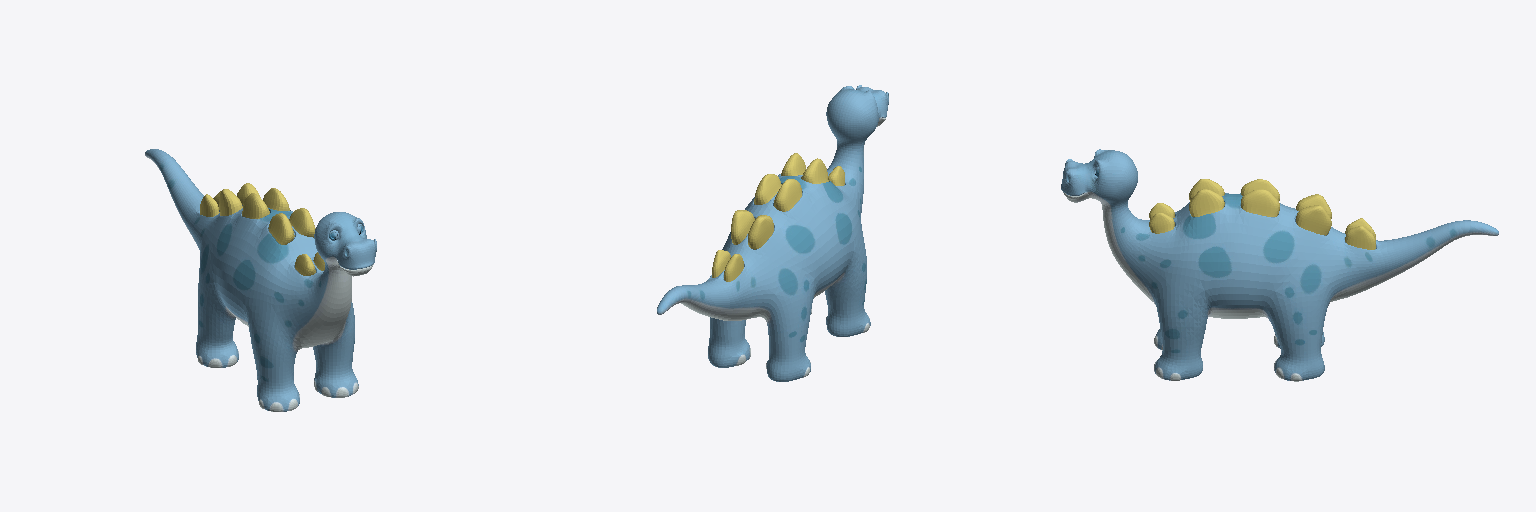
The picture shows the model from 3 angles: view 1: azimuth 30°, elevation 25°; view 2: azimuth 150°, elevation 25°; view 3: azimuth 270°, elevation 25°; orthographic projection.
Parts seen in each view (by area): view 1: Dinosaur.002; view 2: Dinosaur.002; view 3: Dinosaur.002.
Part boxes in pixels (x1,y1,x2,y2): Dinosaur.002: (145, 149, 376, 411); Dinosaur.002: (657, 85, 888, 381); Dinosaur.002: (1061, 149, 1498, 381).
Size of the model in its own units: 1.37 by 2.74 by 5.26.
4 materials, 1 textured.